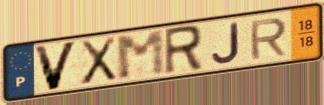J: (210, 21, 242, 66)
M: (114, 28, 169, 83)
R: (162, 23, 205, 78), (248, 16, 290, 62)
V: (31, 39, 81, 93)
X: (78, 35, 118, 88)
